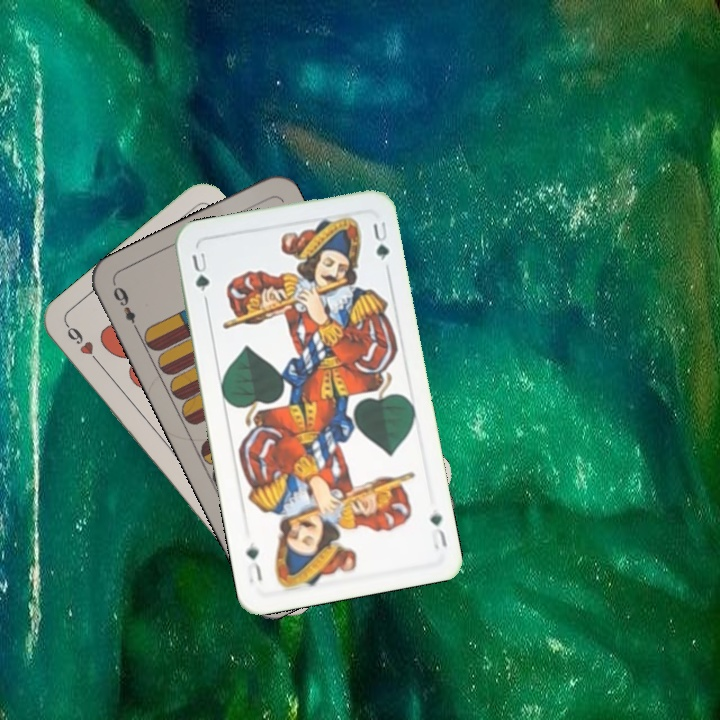E9: (109, 282, 142, 335)
GU: (187, 248, 213, 295), (426, 508, 450, 553)
H9: (62, 320, 105, 369)
